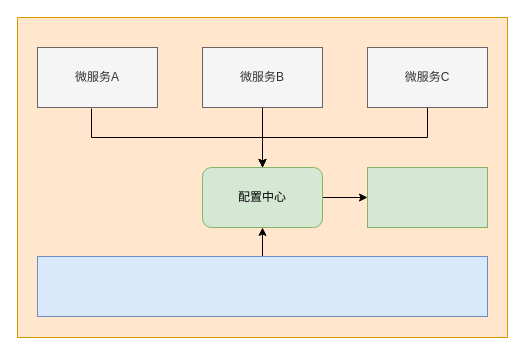
Some shapes in this 525 by 355 pixel diagram are drawn without their labels. Each missing label, with the box of its shape:
Git\Svn: (366, 166, 488, 228)
微服务配置管理: (36, 256, 488, 316)
